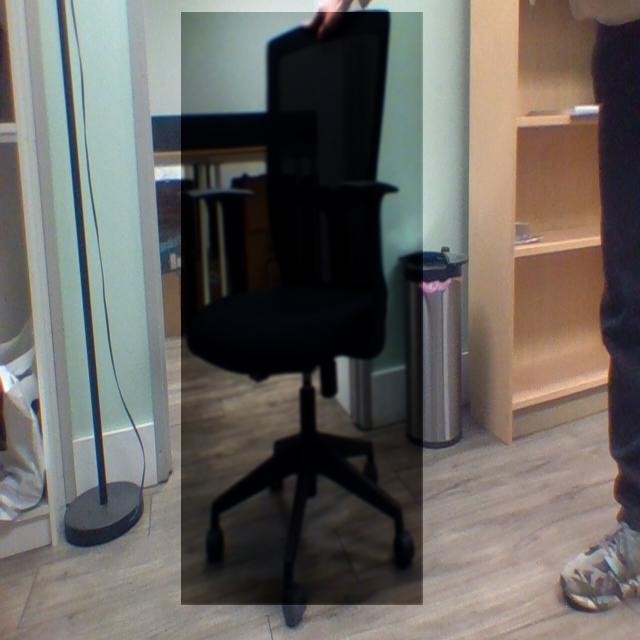black-chair: (181, 12, 424, 606)
